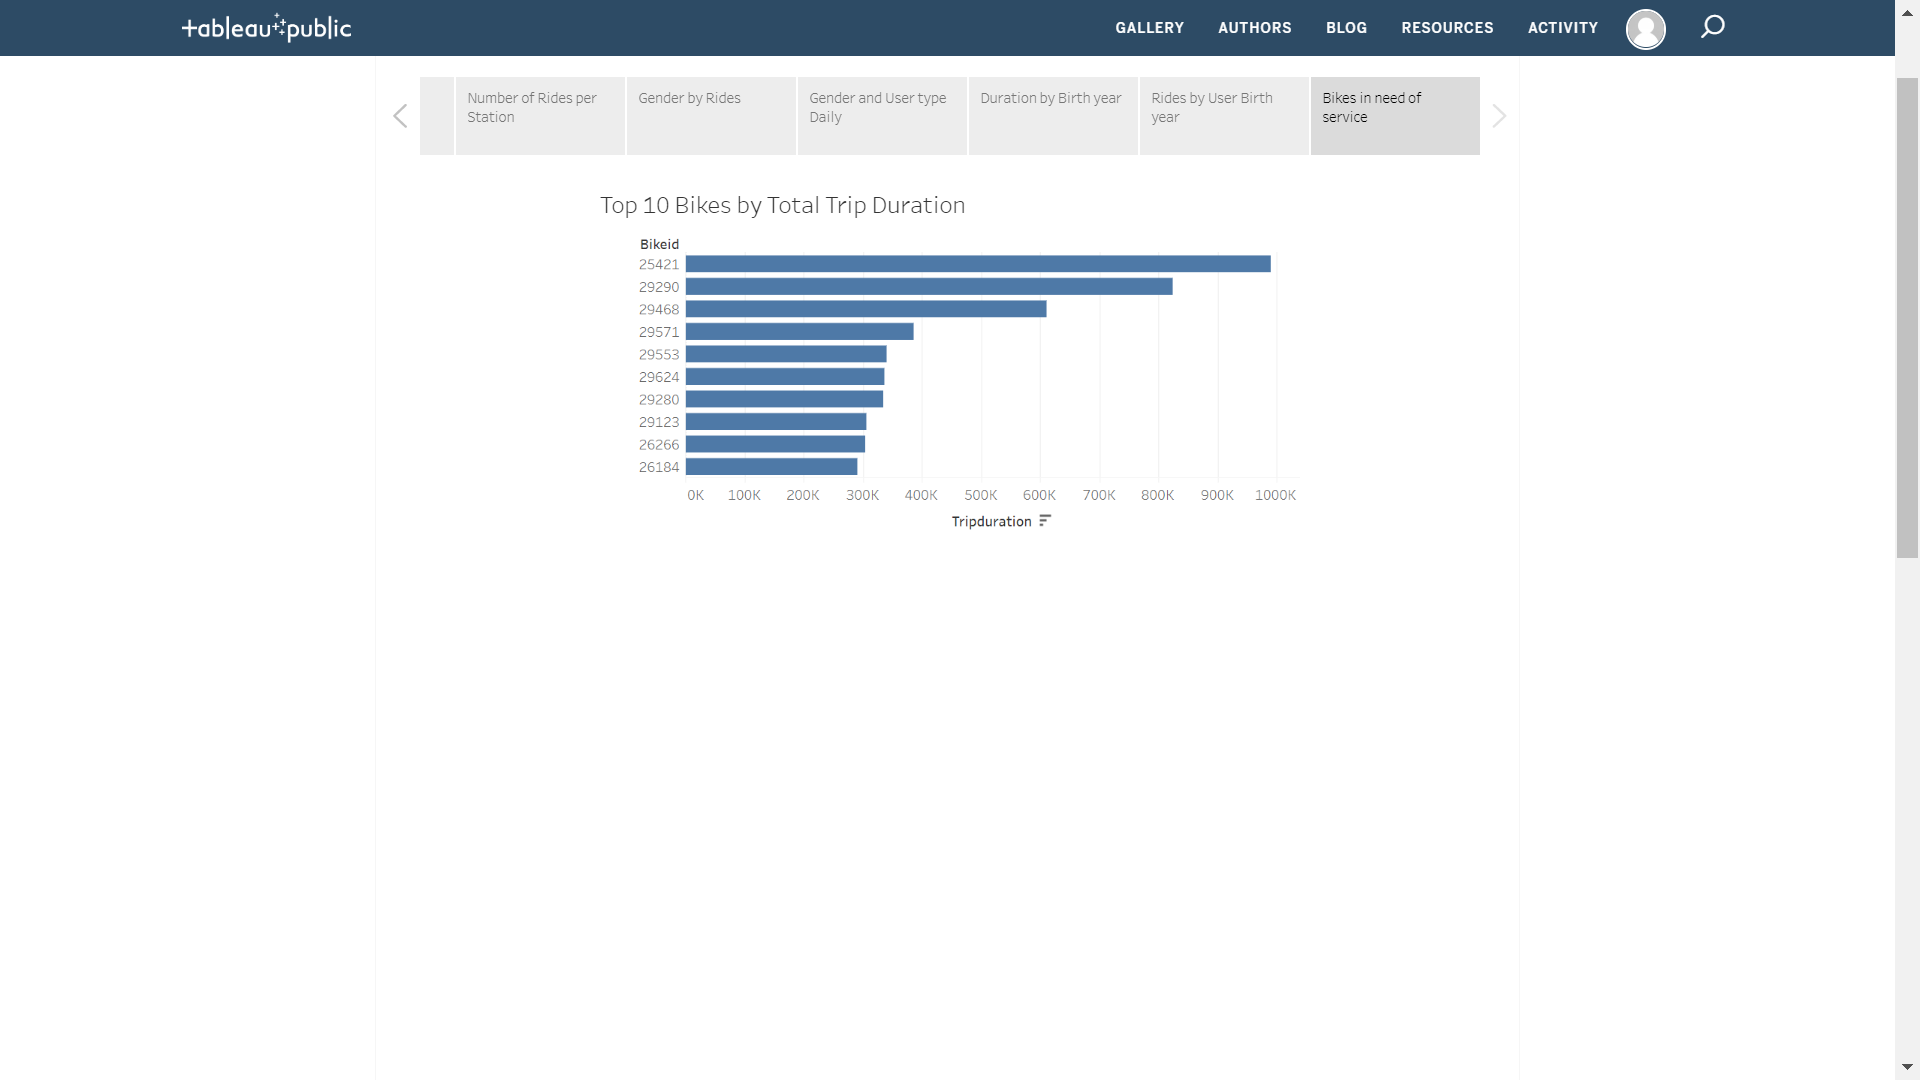

The page's visual inventory and layout, read from the dashboard file:
{"tool":"tableau","page":{"name":"Bikes service ","canvas":[650,860],"ordinal":0},"visuals":[{"type":"worksheet","title":"Bike ID Service","mark":"Automatic","rows":["bikeid"],"cols":["tripduration"],"box":[8,8,634,844]}]}

Visuals, with their boxes on the page's 650x860 design canvas (x1, y1, x2, y2). These are canvas units, not pixel positions in the 1920x1080 screenshot, which may show the page scaled, cropped or inside an application window:
"Bike ID Service" worksheet: pyautogui.locateOnScreen(8, 8, 642, 852)
